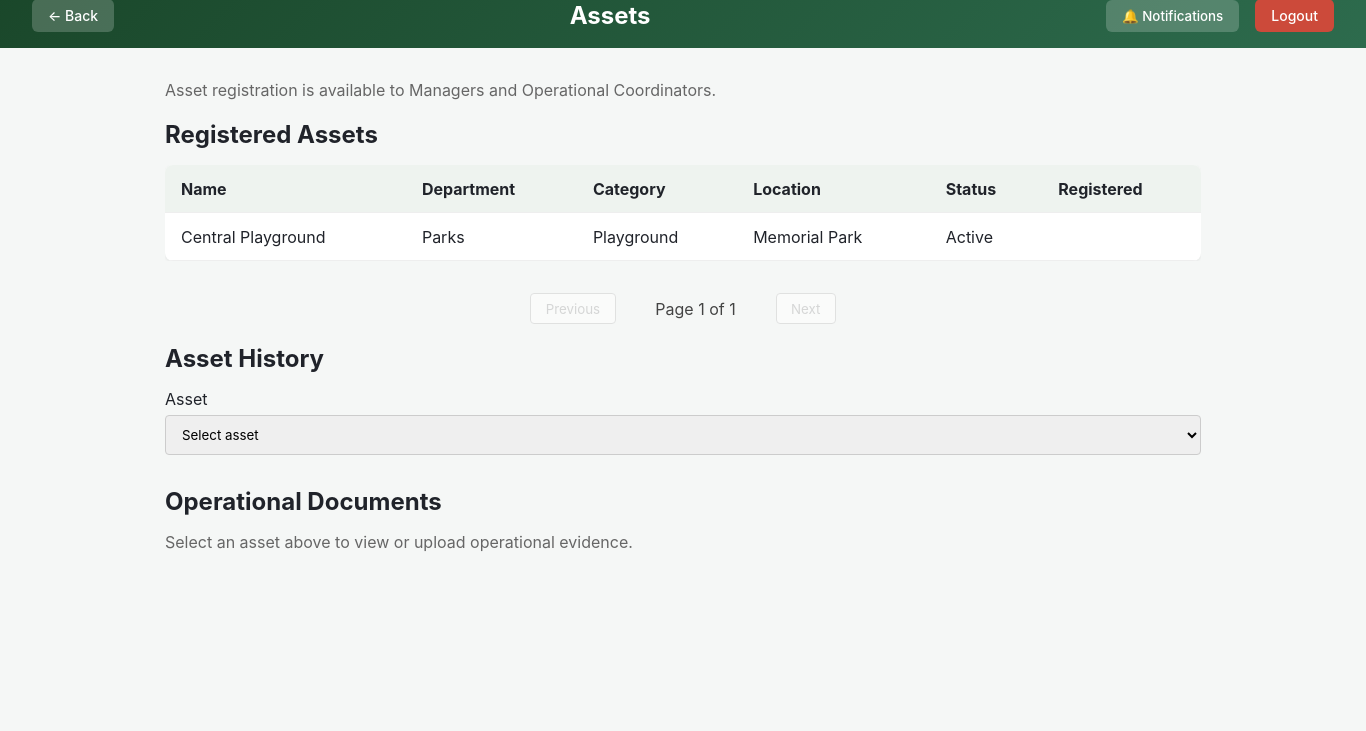
Test: AssetsPage operational document owner selection › shows delete confirmation and removes document after confirm
Select "Central Playground — Memorial Park" in the dropdown labelled "Asset" at (683, 435), box 165,415 -> 1201,455
(page scrolled)
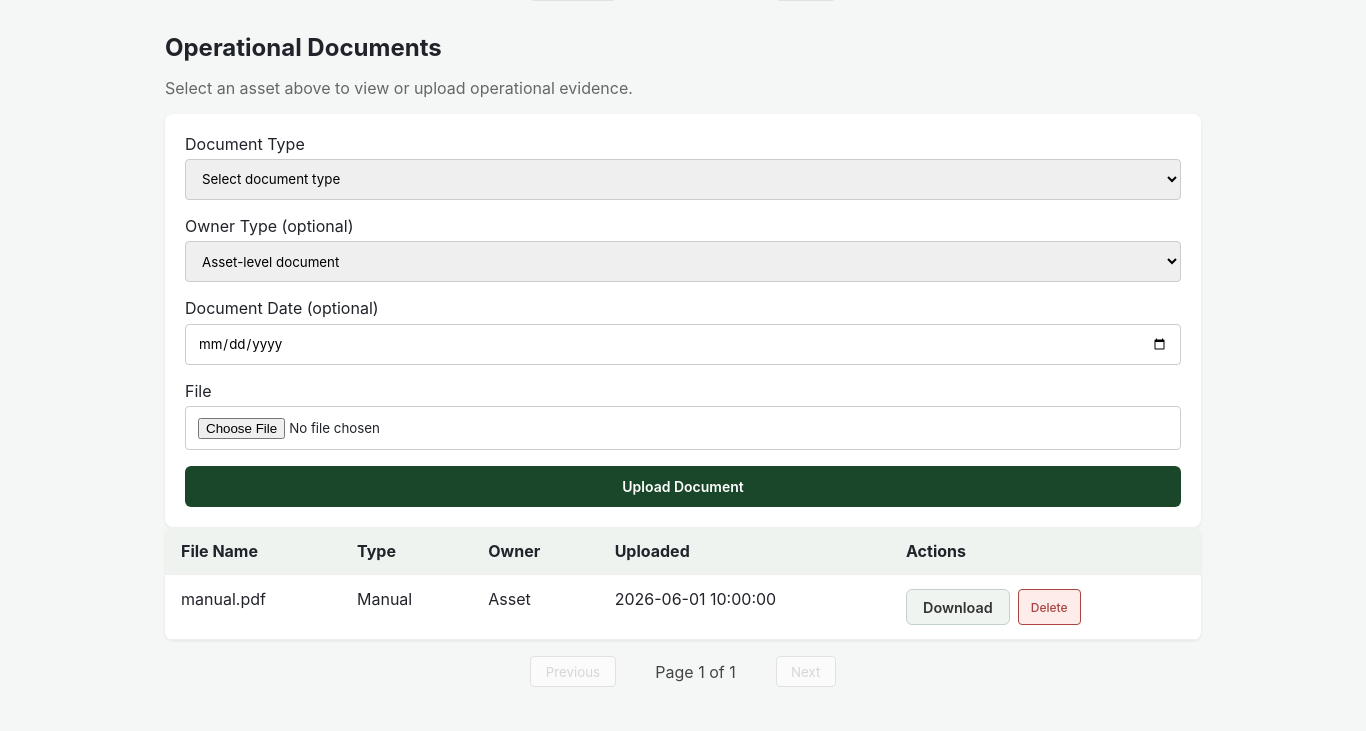
Result: the text "manual.pdf" is shown at 165,575 -> 341,640
Click the button with aria-label "Delete document manual.pdf" at (1049, 607), box 1018,589 -> 1081,625
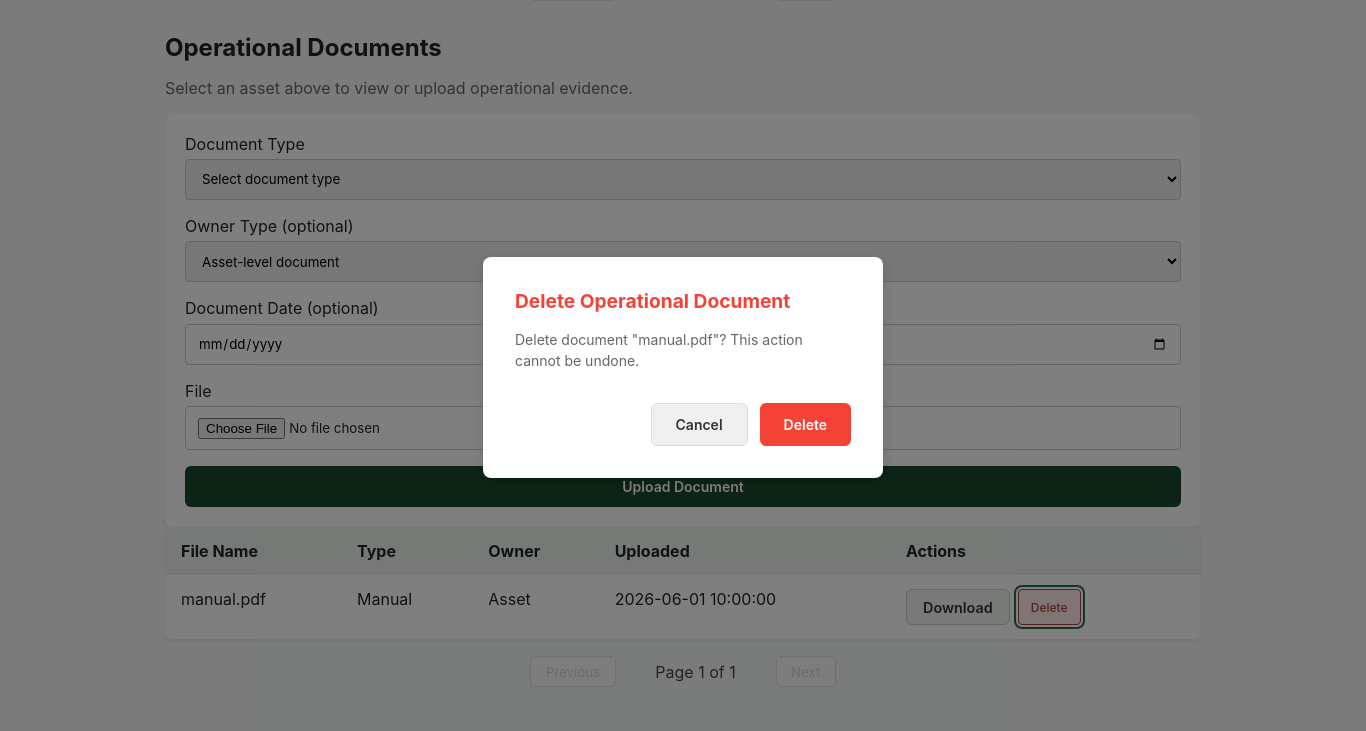
Result: the heading "Delete Operational Document" is shown at 515,288 -> 790,312
Result: the text "Delete document \"manual.pdf\"? This action cannot be undone." is shown at 515,328 -> 851,370
Click the button with aria-label "Cancel confirmation" at (699, 424), box 650,402 -> 748,446
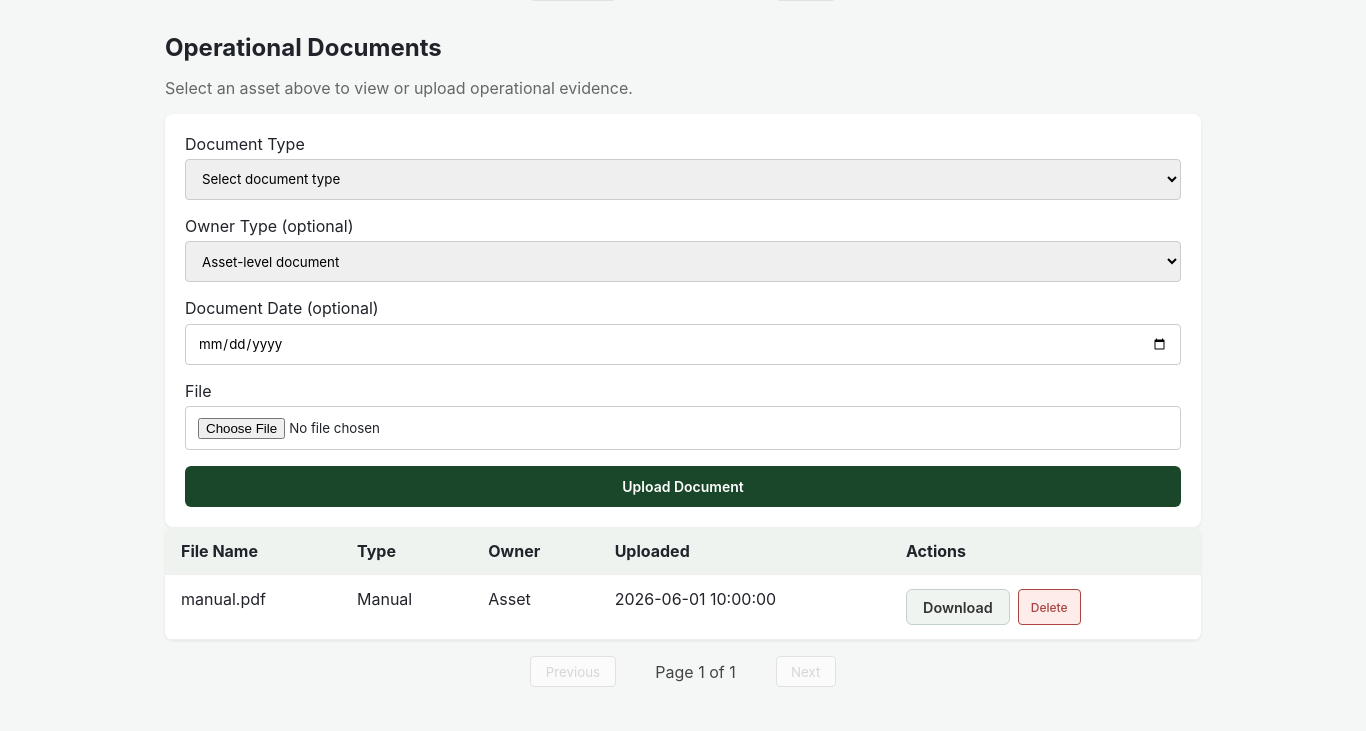
Result: the text "manual.pdf" is shown at 165,575 -> 341,640
Result: the heading "Delete Operational Document" is gone
Click the button with aria-label "Delete document manual.pdf" at (1049, 607), box 1018,589 -> 1081,625
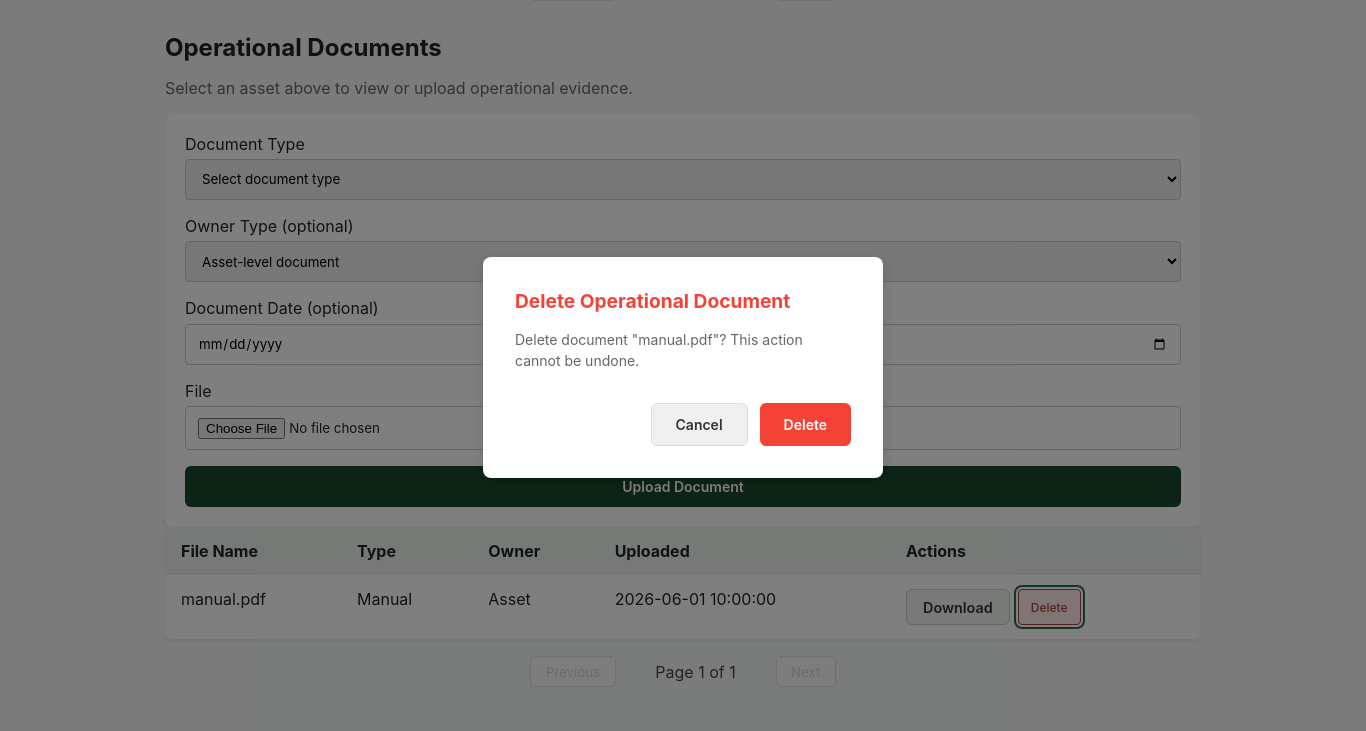
Click the button with aria-label "Delete — destructive action" at (805, 424), box 760,402 -> 851,446
(page scrolled)
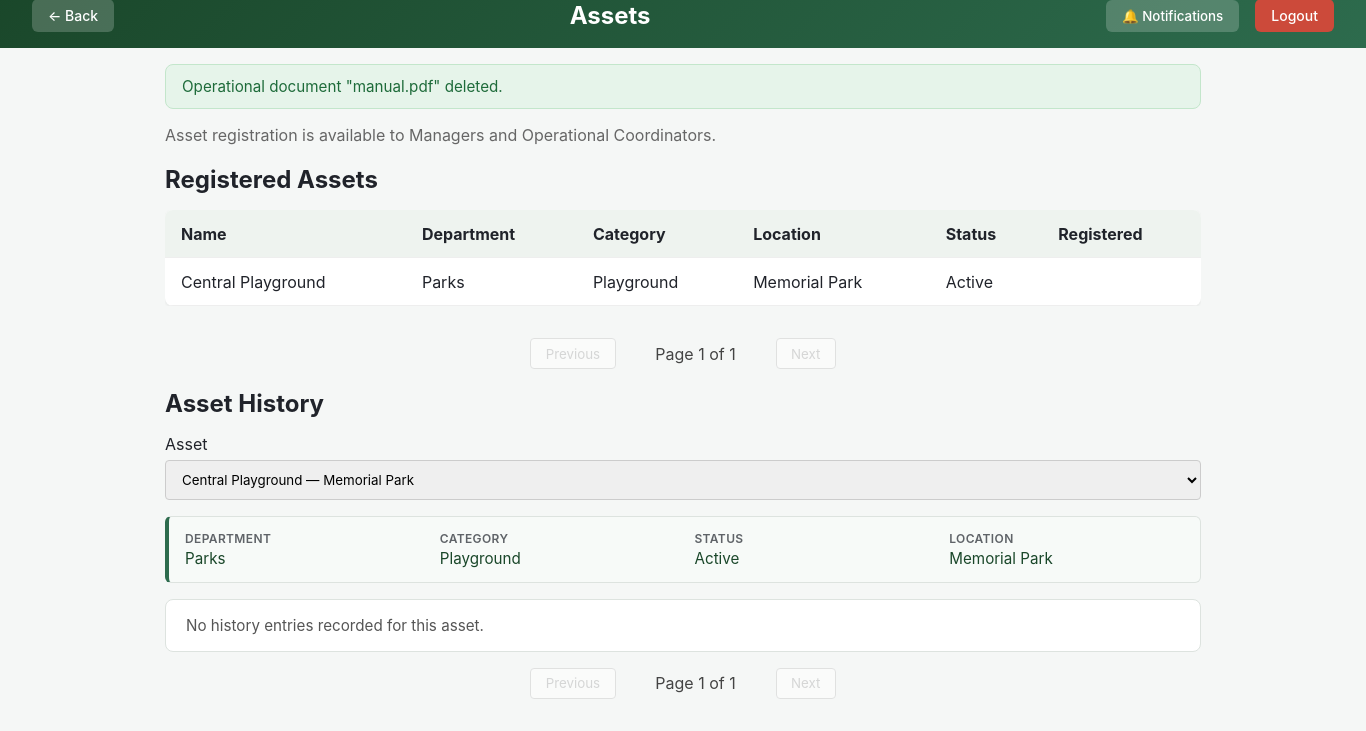
Result: the text "Operational document \"manual.pdf\" deleted." is shown at 165,64 -> 1201,109
